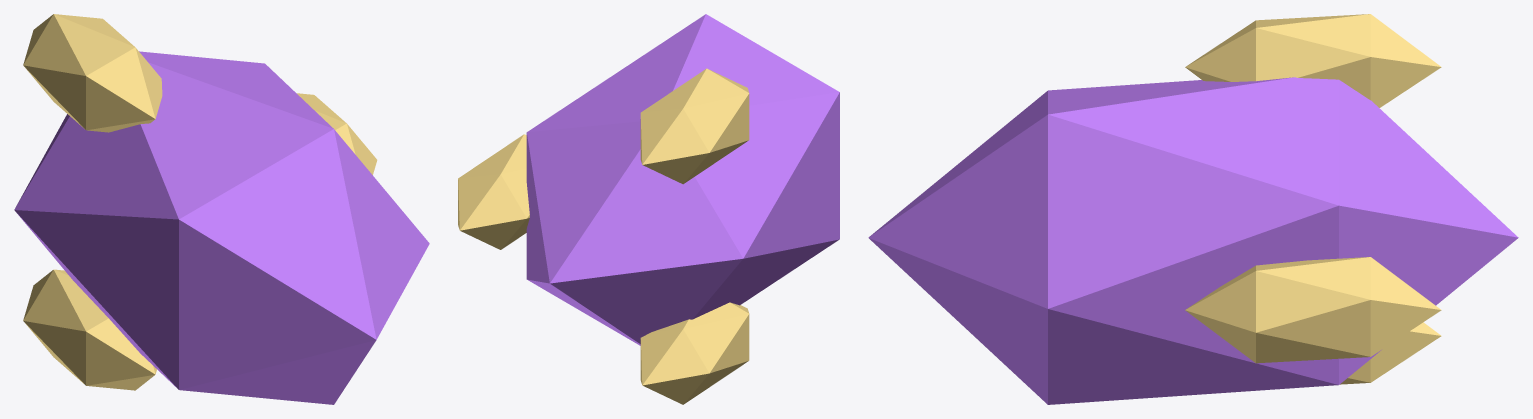
Rendered from Spell.fbx.
3 views of the same model, side by side, from view 1: azimuth 30°, elevation 25°; view 2: azimuth 150°, elevation 25°; view 3: azimuth 270°, elevation 25° (orthographic). The views are drawn at different scales.
Parts seen in each view (by area): view 1: Spell; view 2: Spell; view 3: Spell.
Boxes of the visible parts, x1,y1,x2,y2 form: Spell: [14, 14, 429, 404]; Spell: [458, 14, 839, 404]; Spell: [868, 14, 1518, 404].
Size of the model in its own units: 22.97 by 23.27 by 38.
